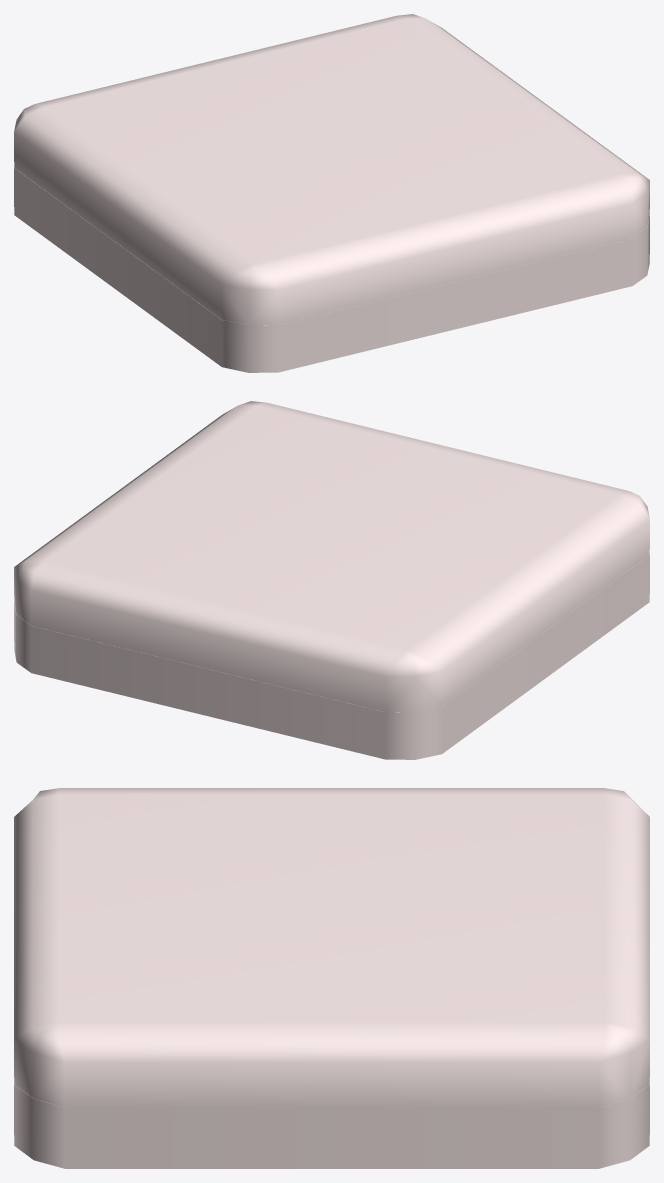
The model's file is Stand.fbx.
The picture shows the model from 3 angles, top to bottom: view 1: azimuth 30°, elevation 25°; view 2: azimuth 150°, elevation 25°; view 3: azimuth 270°, elevation 25°; orthographic projection. The views are drawn at different scales.
Parts seen in each view (by area): view 1: Stand_up, Stand_under; view 2: Stand_up, Stand_under; view 3: Stand_up, Stand_under.
Part boxes in pixels (left/top/right/bottom): Stand_up: left=14, top=14, right=649, bottom=325; Stand_under: left=14, top=167, right=649, bottom=372; Stand_up: left=14, top=401, right=649, bottom=712; Stand_under: left=14, top=554, right=649, bottom=759; Stand_up: left=14, top=788, right=649, bottom=1107; Stand_under: left=14, top=1077, right=649, bottom=1168.
Size of the model in its own units: 58.7 by 12.89 by 58.7.
